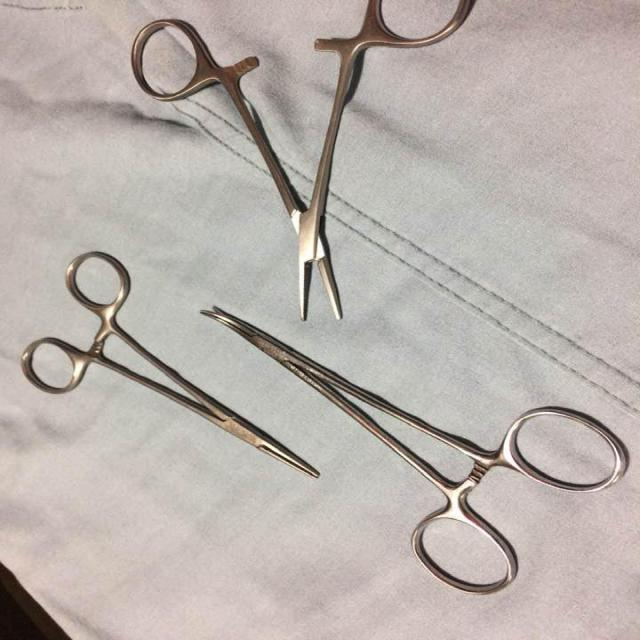Hemostat: (194, 304, 628, 598), (127, 0, 474, 325), (17, 248, 321, 481)
